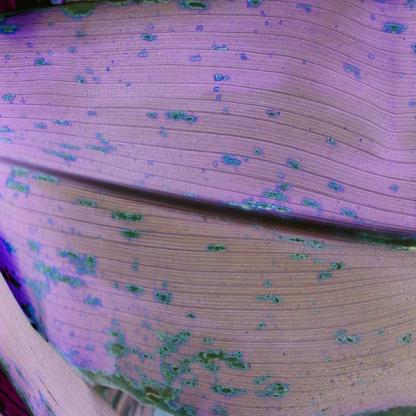corn gray leaf spot: (0, 1, 154, 153)
